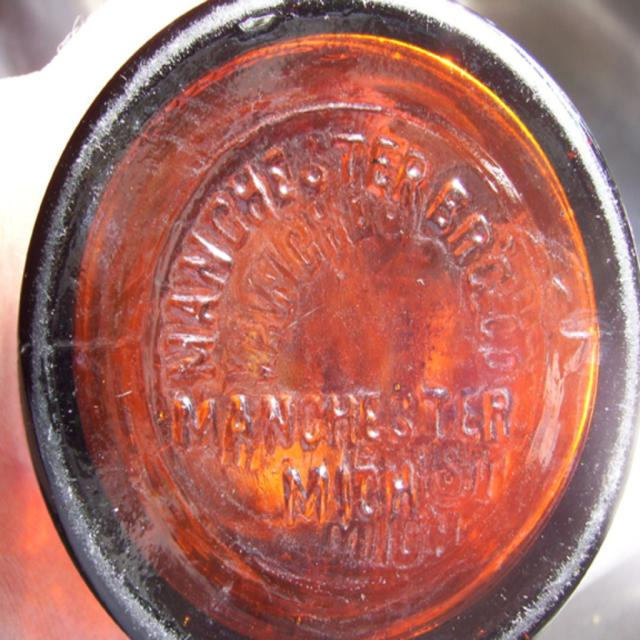Coin: (14, 0, 639, 639)
